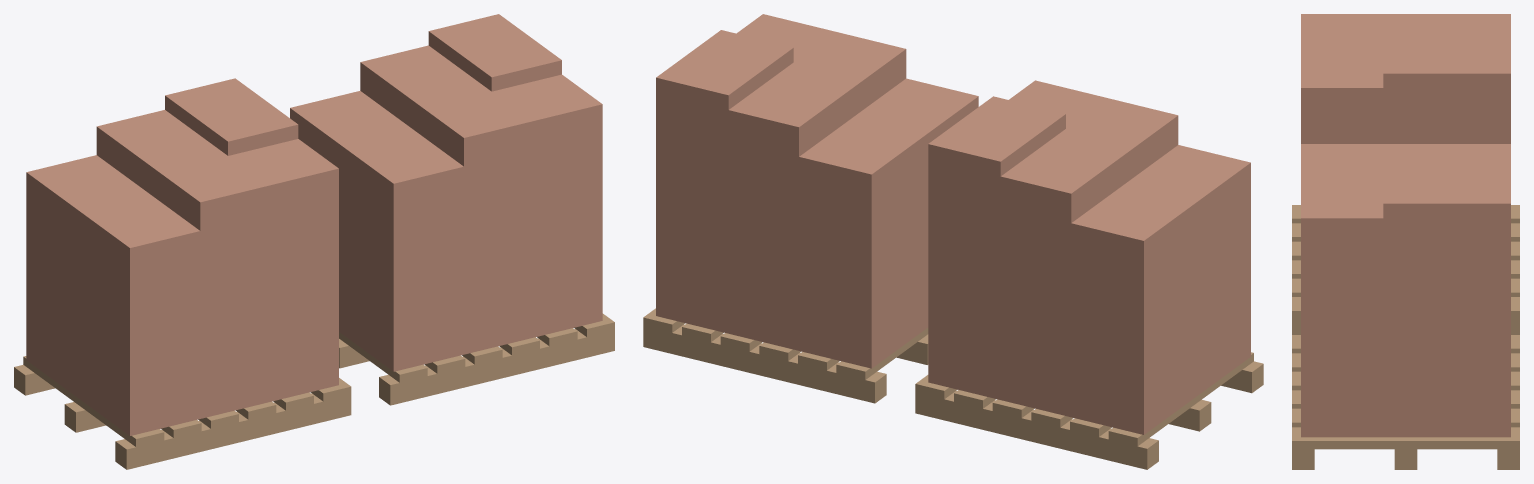
Rendered from Cover_Brick_Stack.fbx.
The picture shows the model from 3 angles, left to right: view 1: azimuth 30°, elevation 25°; view 2: azimuth 150°, elevation 25°; view 3: azimuth 270°, elevation 25°; orthographic projection. The views are drawn at different scales.
Parts seen in each view (by area): view 1: Cover_Brick_Stack; view 2: Cover_Brick_Stack; view 3: Cover_Brick_Stack.
Boxes of the visible parts, <box> form: Cover_Brick_Stack: <box>14,14,614,469</box>; Cover_Brick_Stack: <box>643,14,1263,469</box>; Cover_Brick_Stack: <box>1292,14,1519,469</box>.
Size of the model in its own units: 2.5 by 1.27 by 1.
